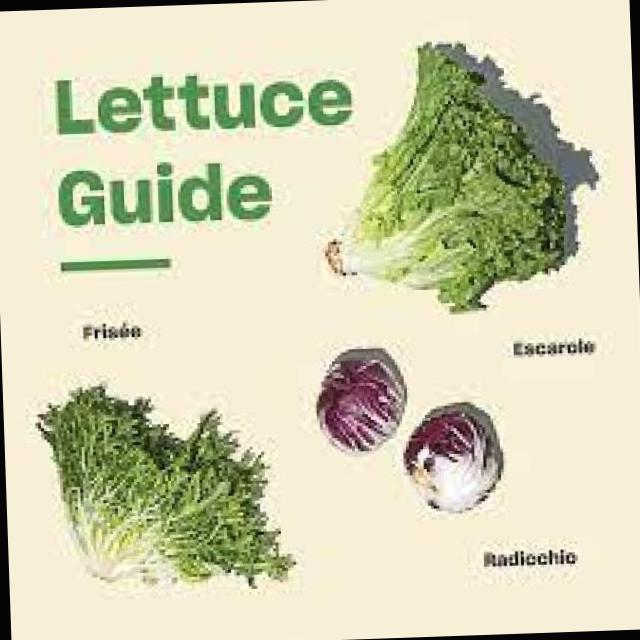Lettuce-Ready-to-Harvest: (324, 42, 598, 312), (37, 385, 295, 585)
